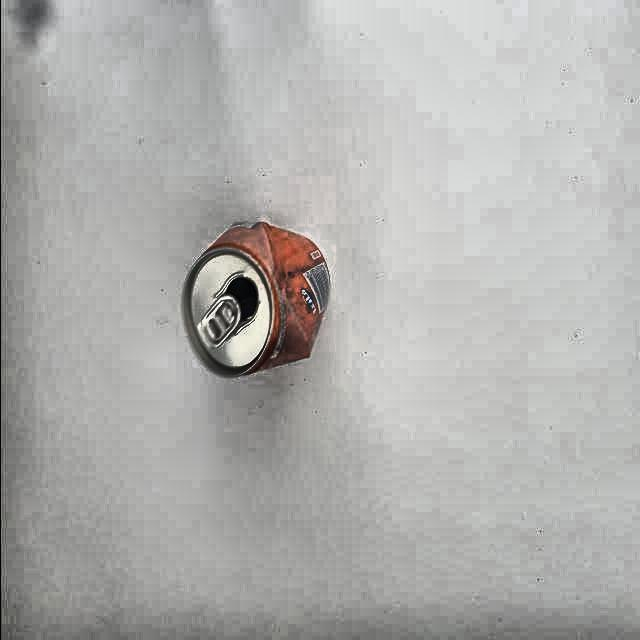metal: (184, 225, 330, 379)
